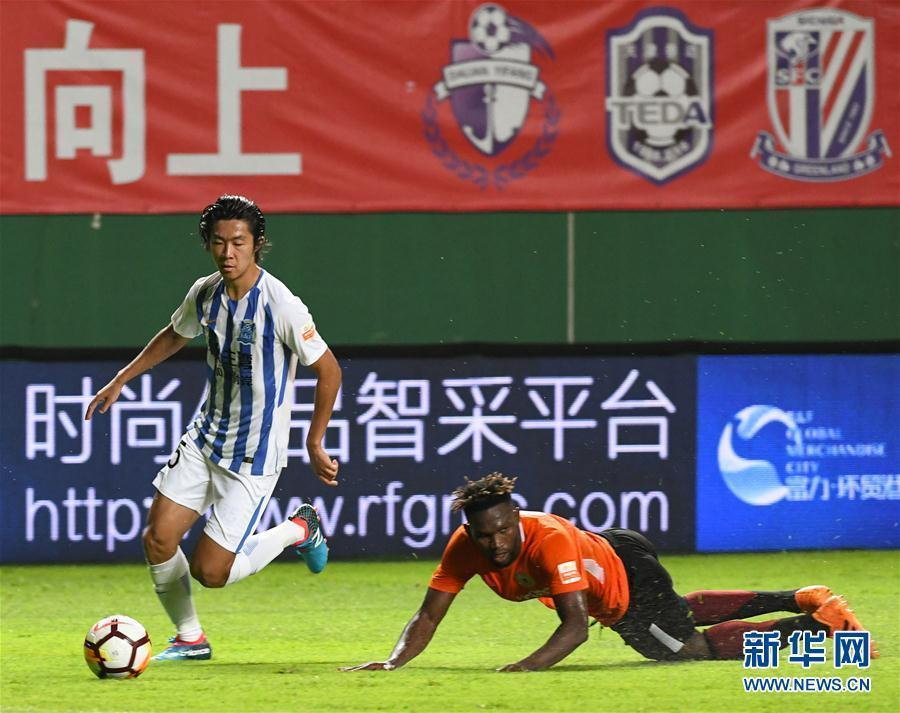Fall-Detected: (340, 464, 869, 676)
